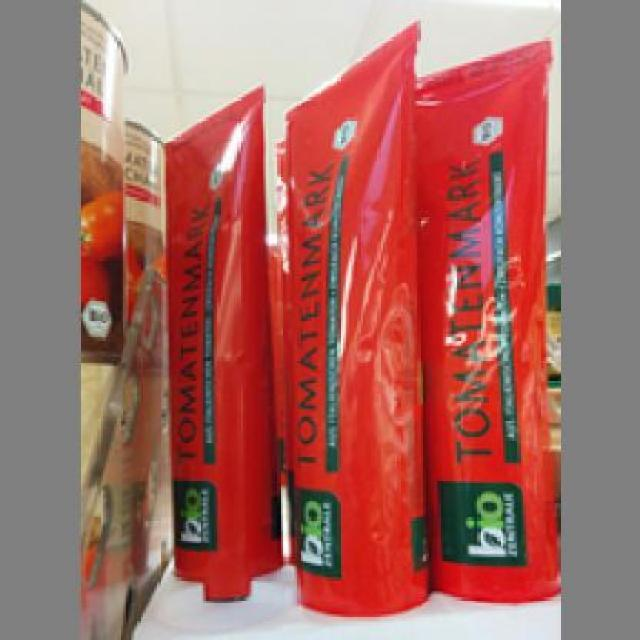Tomato Sauce: (277, 17, 426, 634), (408, 35, 558, 634), (157, 79, 286, 635)
